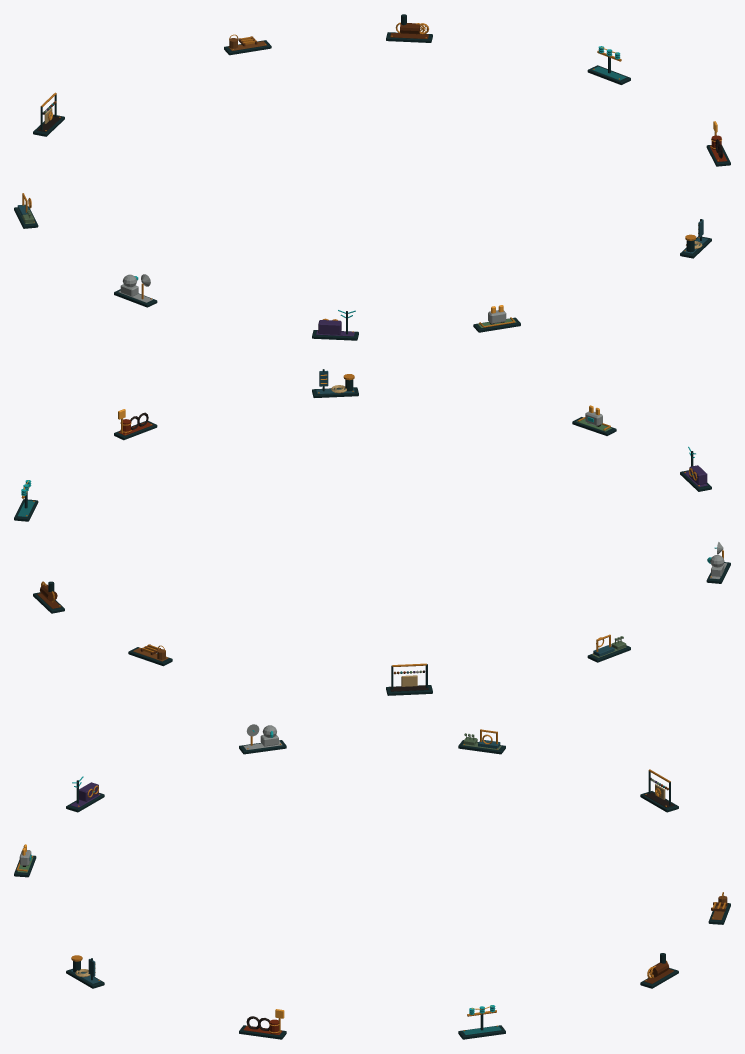
Rendered from ark-deck-era-dressing-e10.glb.
3 renders of one model, top to bottom at view 1: azimuth 30°, elevation 25°; view 2: azimuth 150°, elevation 25°; view 3: azimuth 270°, elevation 25°, orthographic.
Visible parts, largest first — view 1: ArkDeckEraDressingE10; view 2: ArkDeckEraDressingE10; view 3: ArkDeckEraDressingE10.
Boxes of the visible parts, x1,y1,x2,y2 form: ArkDeckEraDressingE10: (14, 14, 730, 340); ArkDeckEraDressingE10: (14, 369, 730, 695); ArkDeckEraDressingE10: (14, 724, 730, 1039).
Size of the model in its own units: 37.56 by 1.64 by 38.29.
Materials: 1 (1 with a texture image).
